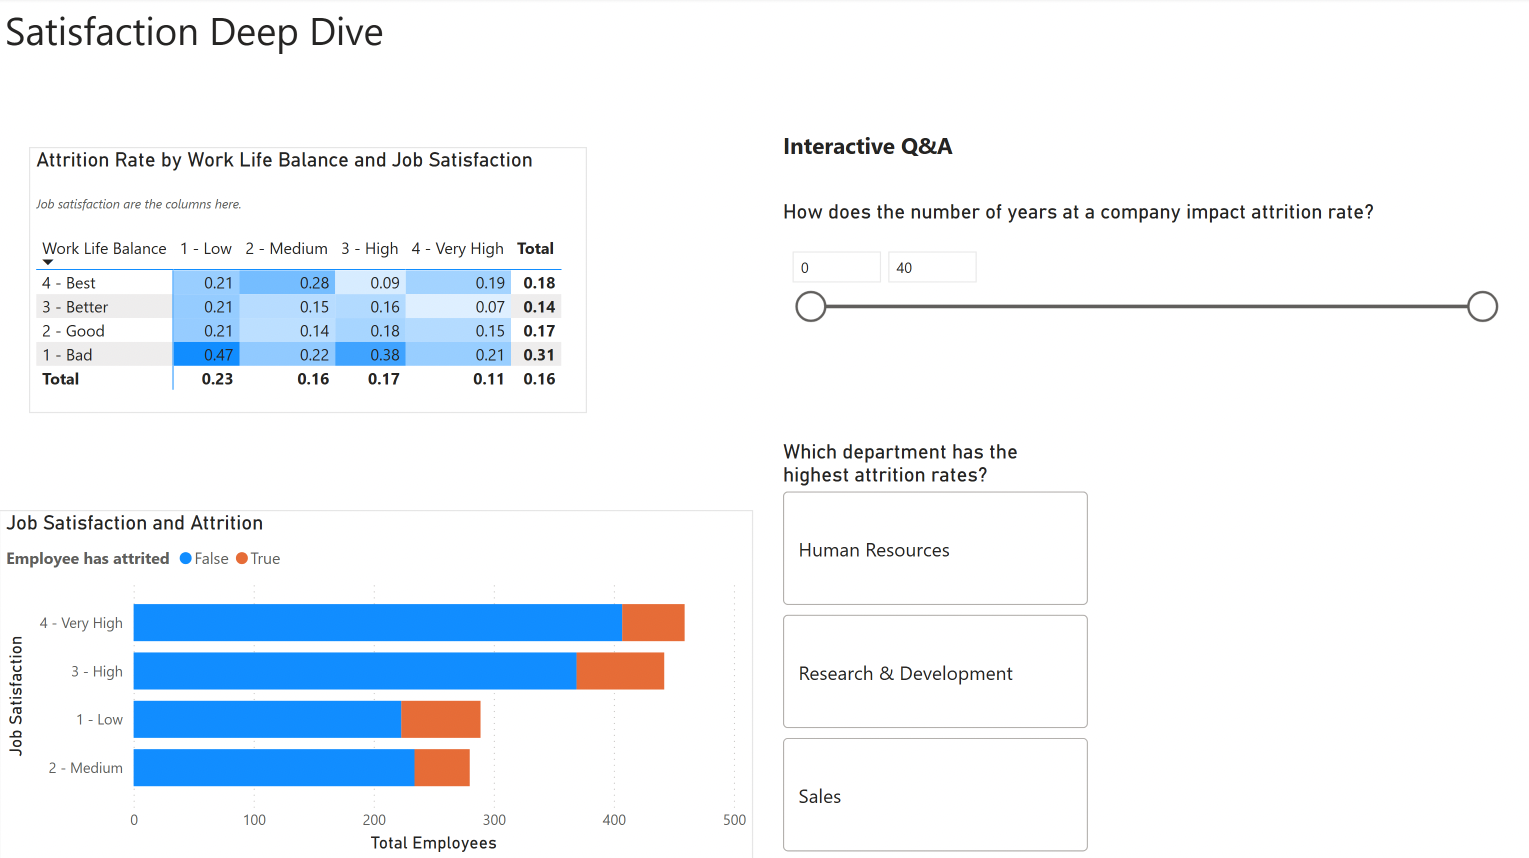

The page's visual inventory and layout, read from the dashboard file:
{"tool":"powerbi","page":{"name":"Pag 4 - Satisfaction Deep Dive","canvas":[1280,720],"ordinal":3},"visuals":[{"type":"barChart","title":"Job Satisfaction and Attrition","fields":{"Y":["_Measures.Total Employees"],"Category":["fct_employees.job_satisfaction"],"Series":["fct_employees.is_attrition"]},"box":[0,428.1,630.4,291.8],"z":0},{"type":"pivotTable","title":"Attrition Rate by Work Life Balance and Job Satisfaction","fields":{"Columns":["fct_employees.job_satisfaction"],"Values":["_Measures.Attrition Rate"],"Rows":["fct_employees.work_life_balance"]},"box":[25.1,124.6,466.5,222.4],"z":1000},{"type":"textbox","box":[0,0,378.7,75.2],"z":2000},{"type":"slicer","title":"How does the number of years at a company impact attrition rate?","fields":{"Values":["fct_employees.years_at_company"]},"box":[650.5,168.9,611.2,168.9],"z":3000},{"type":"advancedSlicerVisual","title":"Which department has the highest attrition rates?","fields":{"Values":["fct_employees.department"]},"box":[650.5,369.5,265,350.3],"z":4000},{"type":"textbox","box":[650.5,105.3,188.1,37.6],"z":4001}]}

Visuals, with their boxes in screenshot pixels (x1, y1, x2, y2), scaled from the page's 1280x720 canvas onto the 1529x858 screenshot:
"Job Satisfaction and Attrition" barChart: [0, 510, 753, 857]
"Attrition Rate by Work Life Balance and Job Satisfaction" pivotTable: [30, 148, 587, 414]
textbox: [0, 0, 452, 90]
"How does the number of years at a company impact attrition rate?" slicer: [777, 201, 1507, 403]
"Which department has the highest attrition rates?" advancedSlicerVisual: [777, 440, 1094, 857]
textbox: [777, 125, 1002, 170]
